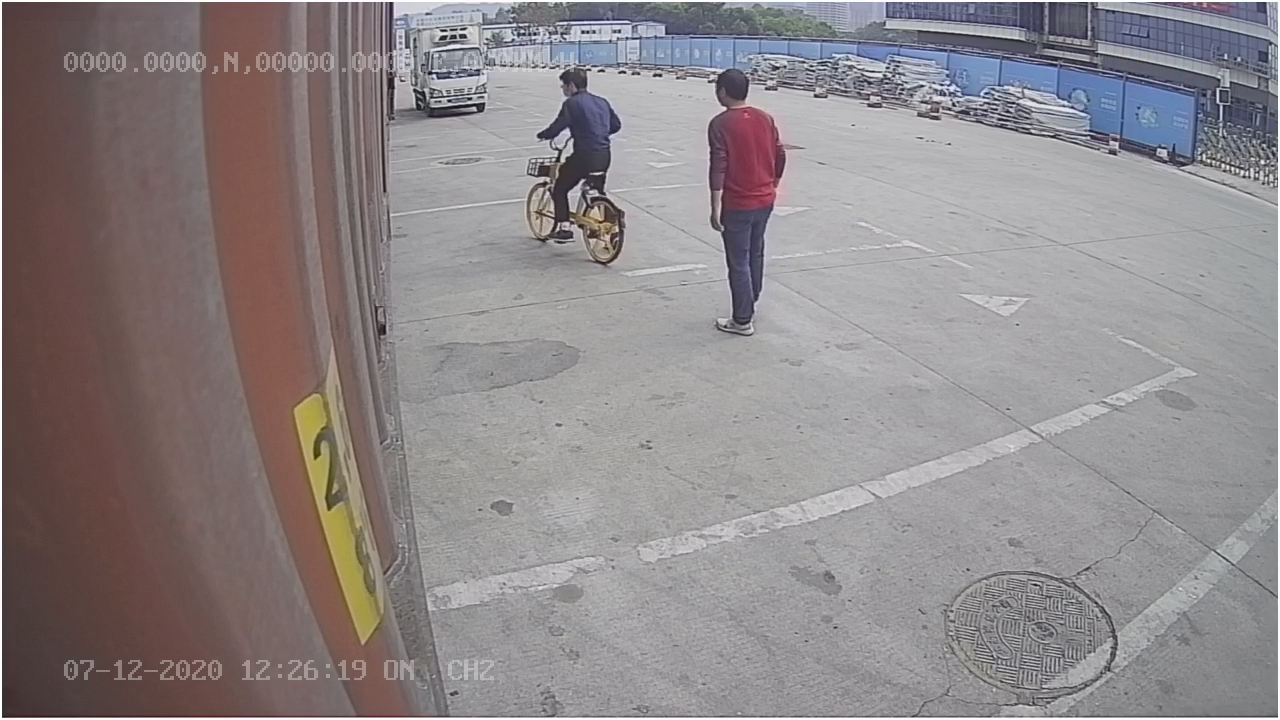person: (703, 64, 798, 343)
